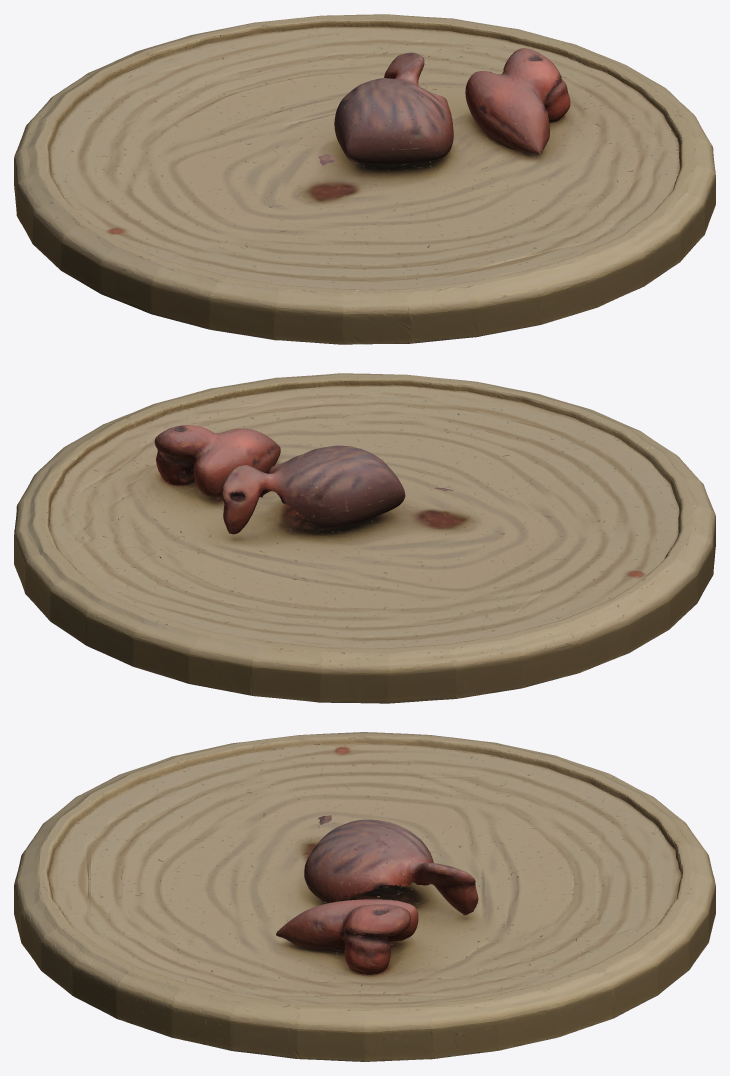
Rendered from steakhouse.glb.
3 views of the same model, one above another, from view 1: azimuth 30°, elevation 25°; view 2: azimuth 150°, elevation 25°; view 3: azimuth 270°, elevation 25° (orthographic).
Parts seen in each view (by area): view 1: world; view 2: world; view 3: world.
Part boxes in pixels (box(x1,y1,x2,y2)): world: box(14, 14, 715, 344); world: box(14, 373, 715, 703); world: box(14, 732, 715, 1061).
Size of the model in its own units: 0.9999 by 0.1549 by 1.
Materials: 1 (1 with a texture image).
